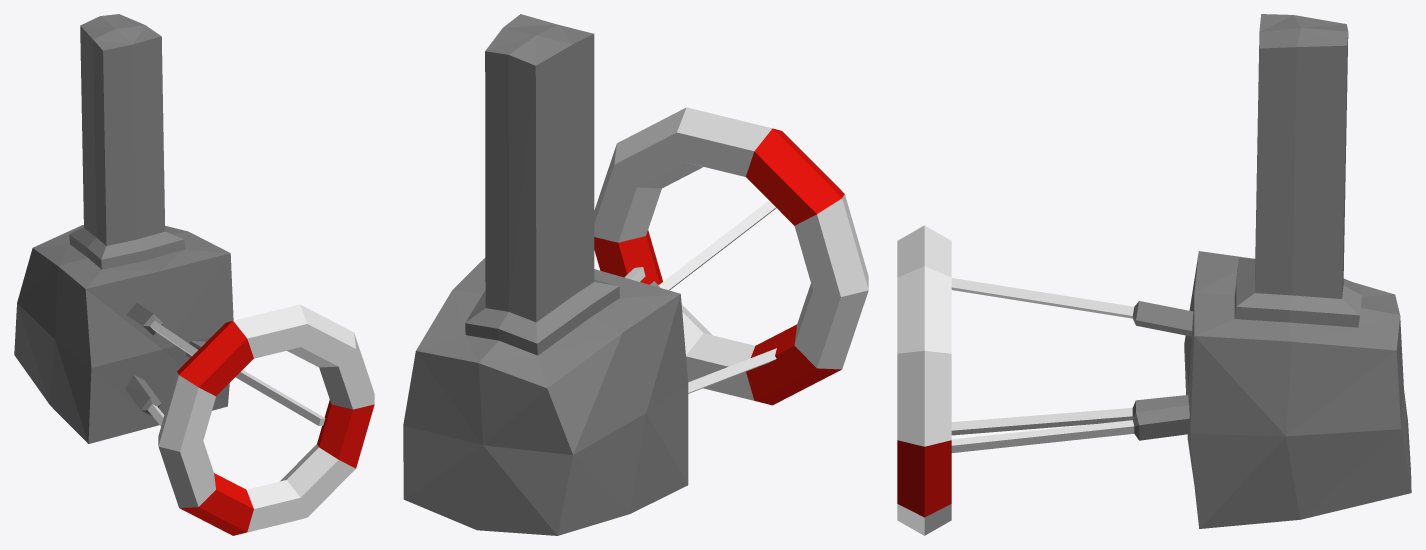
Rendered from Seeker.fbx.
3 renders of one model, left to right at view 1: azimuth 30°, elevation 25°; view 2: azimuth 150°, elevation 25°; view 3: azimuth 270°, elevation 25°, orthographic. The views are drawn at different scales.
Visible parts, largest first — view 1: Torus; view 2: Torus; view 3: Torus.
Part boxes in pixels (x1,y1,x2,y2): Torus: [14, 14, 374, 535]; Torus: [403, 14, 868, 535]; Torus: [897, 14, 1411, 535].
Size of the model in its own units: 294 by 505 by 482.
